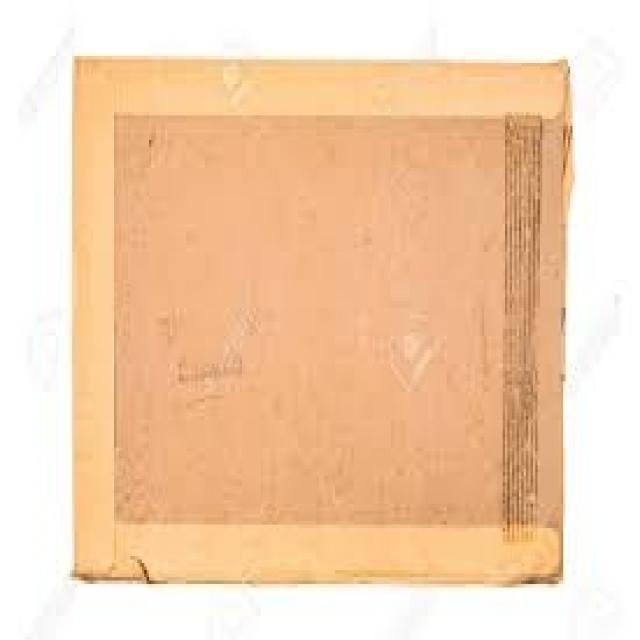cardboard paper: (74, 57, 567, 581)
